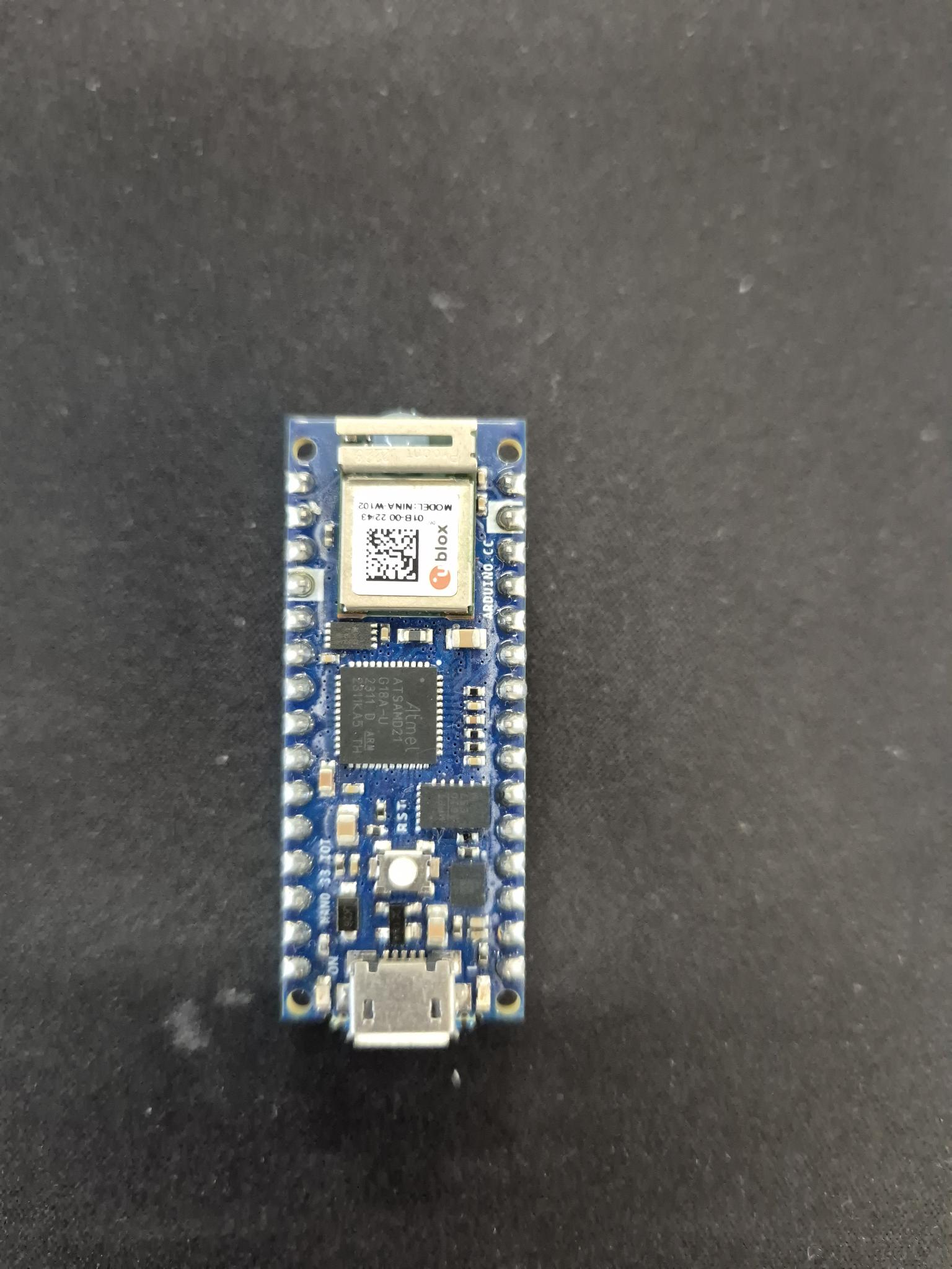arduino-nano-iot-33: (282, 411, 526, 1047)
